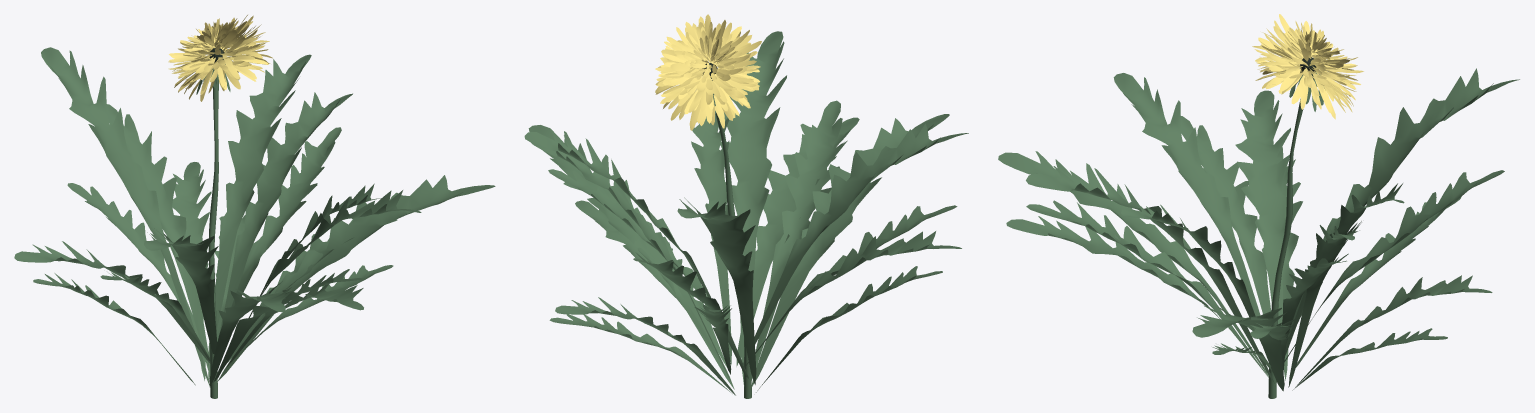
The model's file is achicoria europea.glb.
3 views of the same model, side by side, from view 1: azimuth 30°, elevation 25°; view 2: azimuth 150°, elevation 25°; view 3: azimuth 270°, elevation 25° (orthographic). The views are drawn at different scales.
Parts seen in each view (by area): view 1: GS Dandelion 03; view 2: GS Dandelion 03; view 3: GS Dandelion 03.
Boxes of the visible parts, x1,y1,x2,y2 form: GS Dandelion 03: (14, 15, 495, 398); GS Dandelion 03: (524, 14, 968, 398); GS Dandelion 03: (998, 14, 1519, 398).
Size of the model in its own units: 1.19 by 0.9258 by 1.14.
